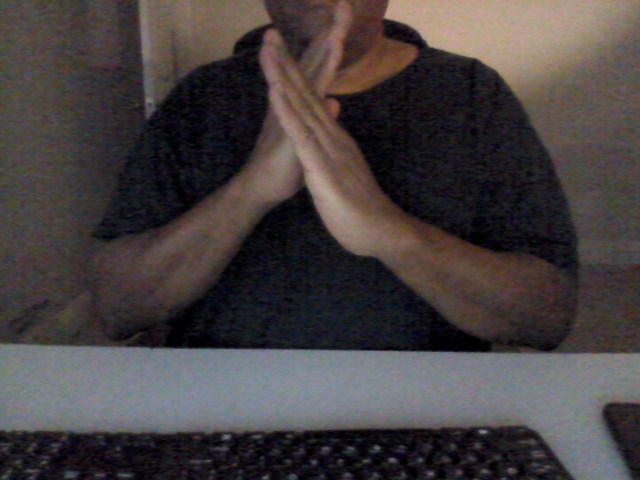quiet: (247, 4, 392, 265)
